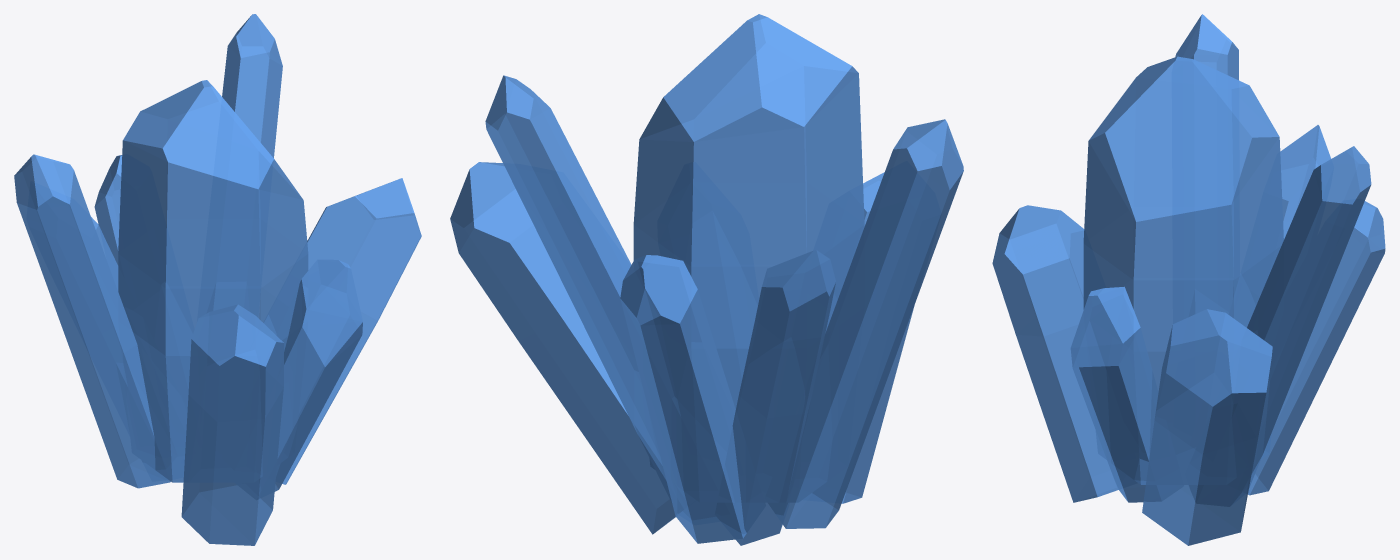
Rendered from Crystals_l_01.fbx.
The picture shows the model from 3 angles, left to right: view 1: azimuth 30°, elevation 25°; view 2: azimuth 150°, elevation 25°; view 3: azimuth 270°, elevation 25°; orthographic projection. The views are drawn at different scales.
Parts seen in each view (by area): view 1: Crystals_l_01; view 2: Crystals_l_01; view 3: Crystals_l_01.
Part boxes in pixels (box(x1,y1,x2,y2)): Crystals_l_01: box(14, 14, 421, 545); Crystals_l_01: box(450, 14, 963, 545); Crystals_l_01: box(992, 14, 1385, 545).
Size of the model in its own units: 4.47 by 4.47 by 3.57.
